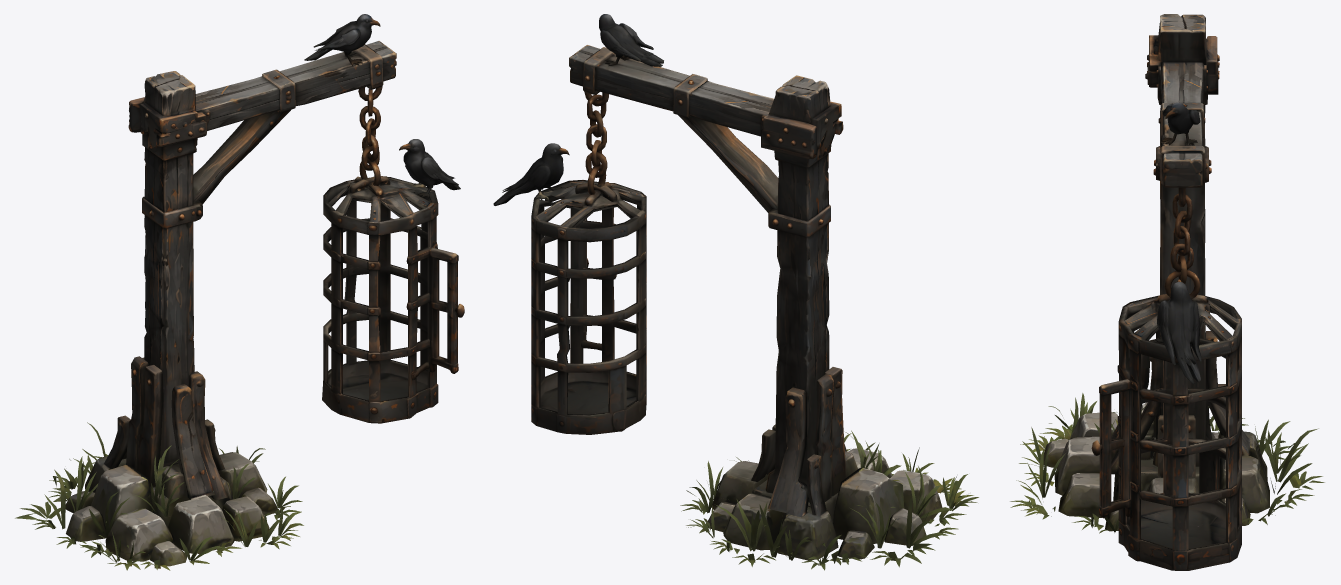
Rendered from act1_extras_v1_gibbet.glb.
3 renders of one model, left to right at view 1: azimuth 30°, elevation 25°; view 2: azimuth 150°, elevation 25°; view 3: azimuth 270°, elevation 25°, orthographic. The views are drawn at different scales.
Visible parts, largest first — view 1: f8473cb1_4fbb_461d_8477_10d8f371e1b3; view 2: f8473cb1_4fbb_461d_8477_10d8f371e1b3; view 3: f8473cb1_4fbb_461d_8477_10d8f371e1b3.
Boxes of the visible parts, x1,y1,x2,y2 form: f8473cb1_4fbb_461d_8477_10d8f371e1b3: (15, 14, 464, 570); f8473cb1_4fbb_461d_8477_10d8f371e1b3: (493, 14, 978, 570); f8473cb1_4fbb_461d_8477_10d8f371e1b3: (1010, 14, 1324, 570).
Size of the model in its own units: 0.9995 by 0.981 by 0.5747.
1 material, 1 textured.
